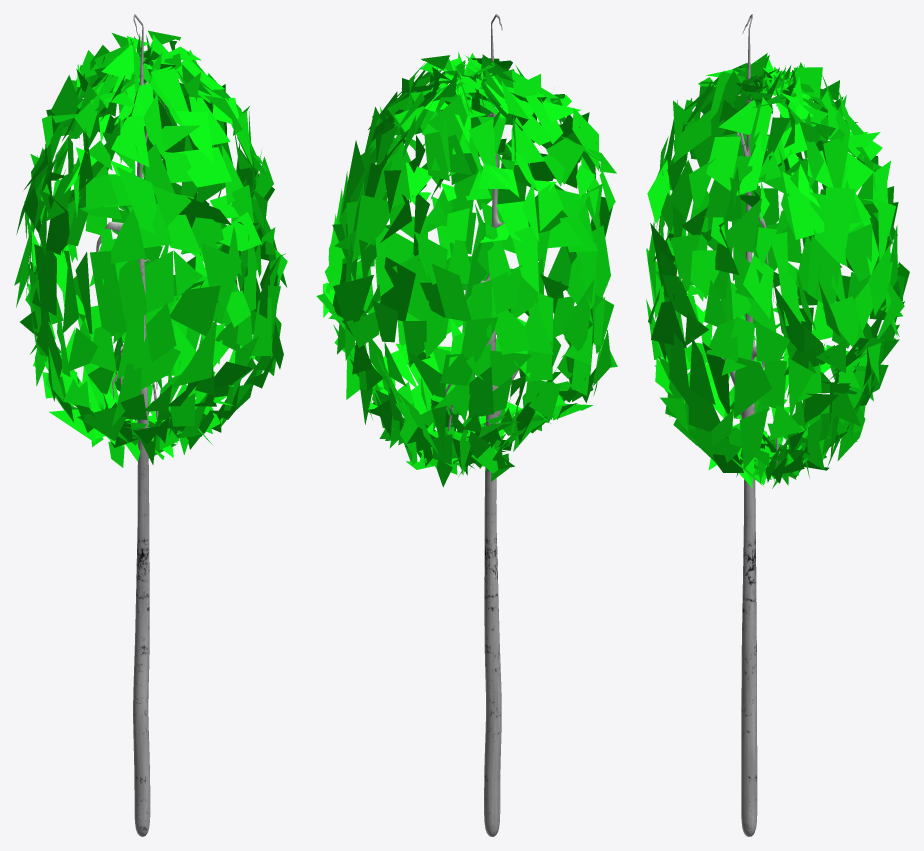
Rendered from Leaves21.001.fbx.
3 views of the same model, side by side, from view 1: azimuth 30°, elevation 25°; view 2: azimuth 150°, elevation 25°; view 3: azimuth 270°, elevation 25° (orthographic).
Visible parts, largest first — view 1: Leaves21.001; view 2: Leaves21.001; view 3: Leaves21.001.
Part boxes in pixels (left/top/right/bottom): Leaves21.001: left=14, top=14, right=287, bottom=836; Leaves21.001: left=316, top=14, right=617, bottom=836; Leaves21.001: left=646, top=14, right=909, bottom=836.
Size of the model in its own units: 816 by 2612 by 762.
2 materials, 1 textured.
